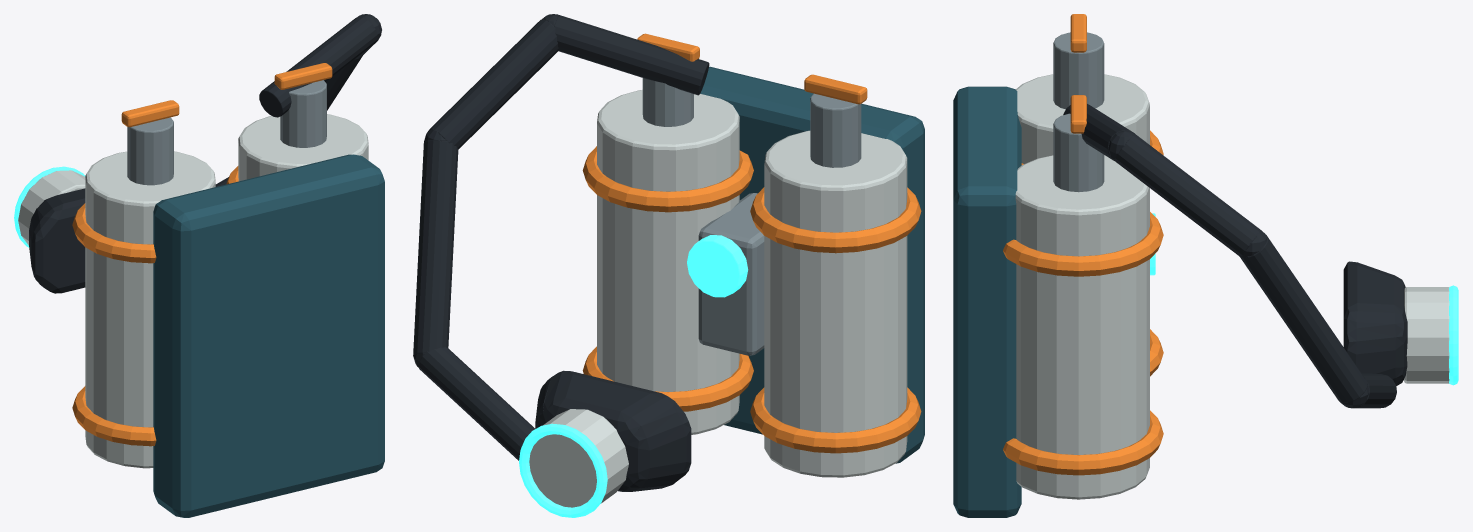
Rendered from oxygen_rebreather.glb.
3 views of the same model, side by side, from view 1: azimuth 30°, elevation 25°; view 2: azimuth 150°, elevation 25°; view 3: azimuth 270°, elevation 25° (orthographic). The views are drawn at different scales.
Parts seen in each view (by area): view 1: oxygen_rebreather_mesh, breathing_mask_mesh; view 2: oxygen_rebreather_mesh, breathing_mask_mesh; view 3: oxygen_rebreather_mesh, breathing_mask_mesh.
Boxes of the visible parts, box(x1,y1,x2,y2) form: oxygen_rebreather_mesh: box(72, 14, 384, 517); breathing_mask_mesh: box(14, 166, 85, 293); oxygen_rebreather_mesh: box(413, 14, 924, 477); breathing_mask_mesh: box(519, 370, 691, 517); oxygen_rebreather_mesh: box(953, 14, 1396, 517); breathing_mask_mesh: box(1343, 261, 1458, 385).
Size of the model in its own units: 0.497 by 0.509 by 0.5535.
